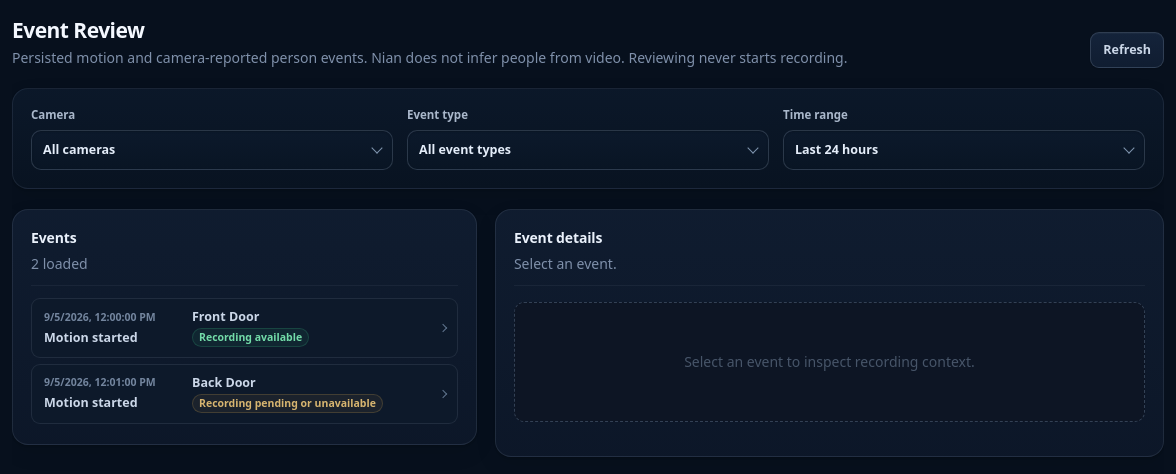
Test: EventReviewScreen › ignores stale selected-event recording lookup completion
Expected: the text "Back Door" is shown, [192,374,256,391]
What coordinates should you click on to do the following:
click the button "Motion started"
I would click on:
 (244, 328)
Its box is [31,298,458,358].
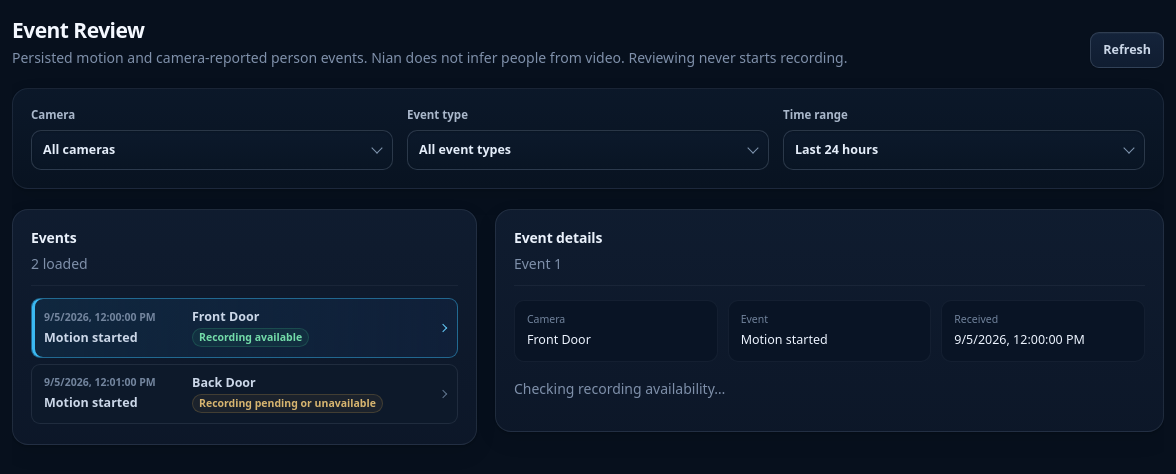
What coordinates should you click on to do the following:
click the button "Motion started"
I would click on:
 (244, 394)
Its box is [31,364,458,424].
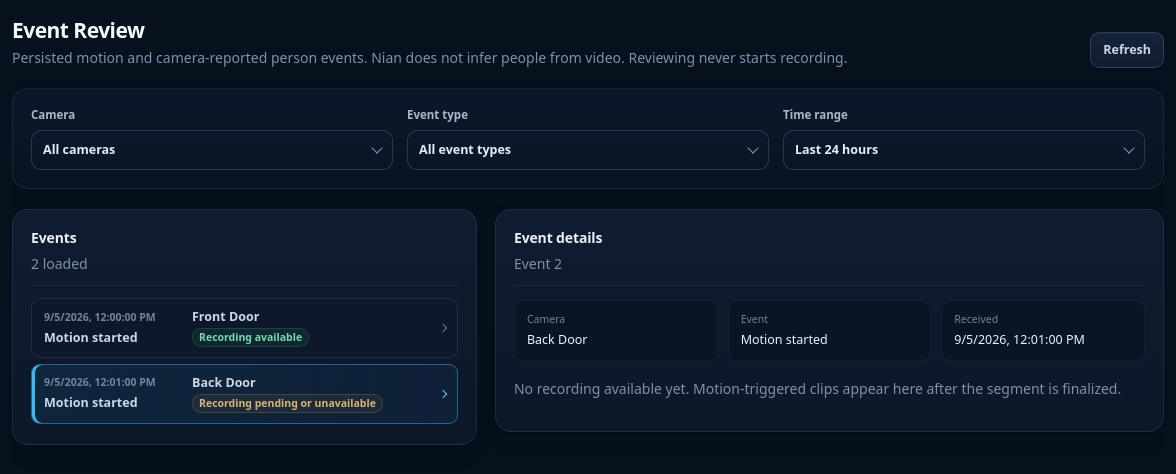
Expected: the text "No recording available yet. Motion-triggered clips appear here after the segment is finalized." is shown, [514,379,1121,398]
